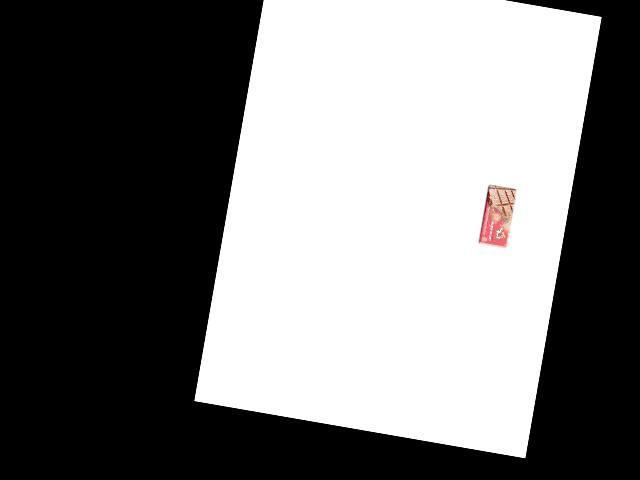chocolate: (477, 182, 518, 249)
